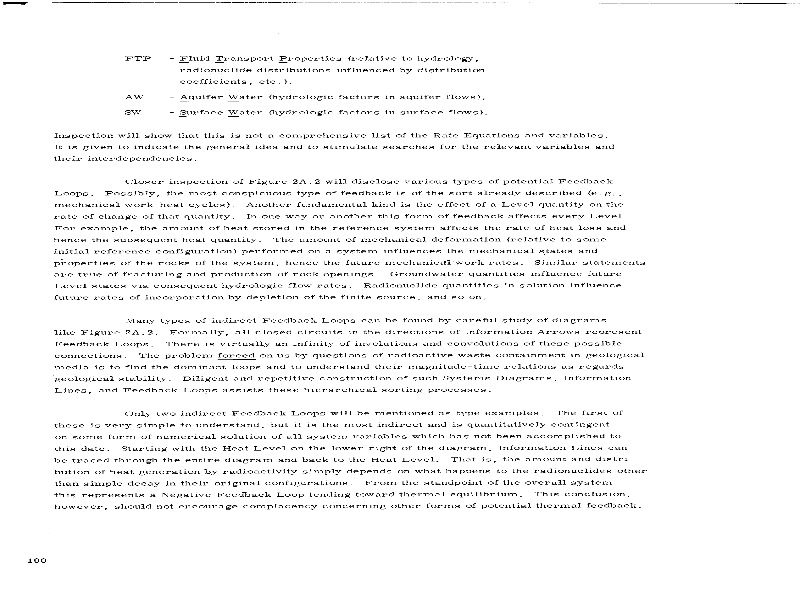table: (115, 48, 497, 129)
